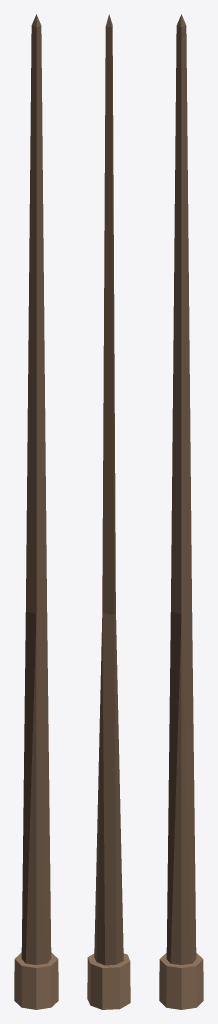
Rendered from Ship_Collision.fbx.
3 renders of one model, left to right at view 1: azimuth 90°, elevation 25°; view 2: azimuth 210°, elevation 25°; view 3: azimuth 270°, elevation 25°, orthographic.
Visible parts, largest first — view 1: Main Mast.002; view 2: Main Mast.002; view 3: Main Mast.002.
Part boxes in pixels (x1,y1,x2,y2): Main Mast.002: (14, 14, 58, 1009); Main Mast.002: (87, 14, 130, 1009); Main Mast.002: (159, 14, 203, 1009).
Size of what is drawn, in the model's own units: 2.26 by 56.95 by 2.32.
